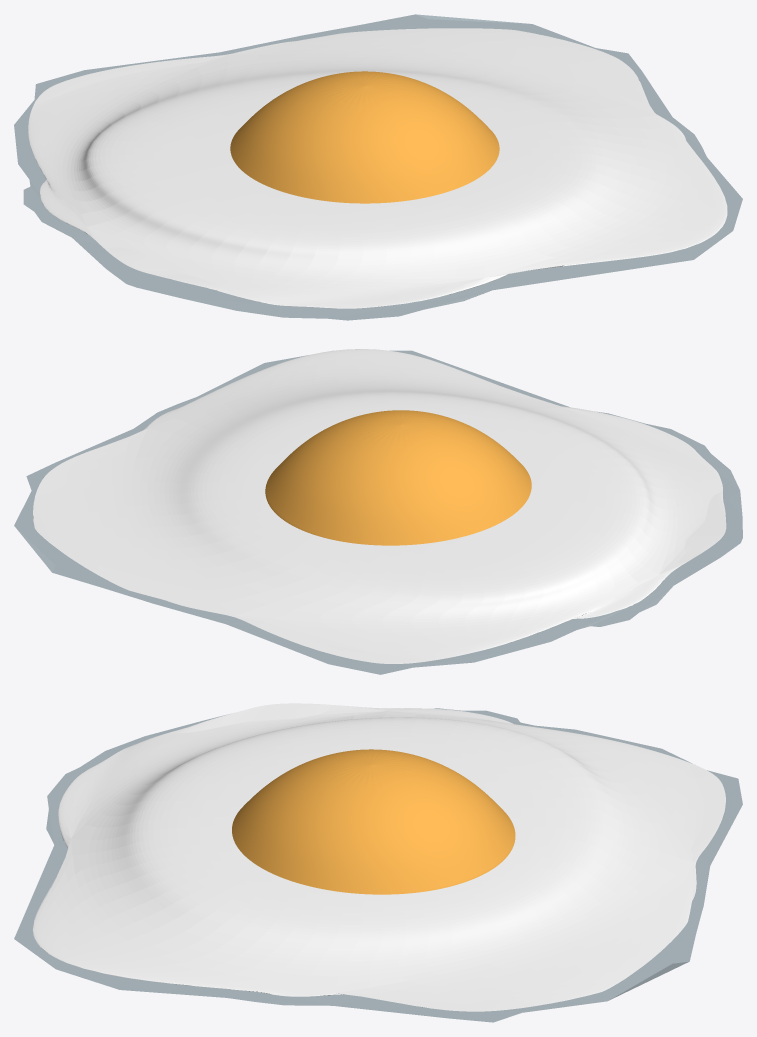
File: friedegg1.fbx
3 views of the same model, one above another, from view 1: azimuth 30°, elevation 25°; view 2: azimuth 150°, elevation 25°; view 3: azimuth 270°, elevation 25° (orthographic). The views are drawn at different scales.
Visible parts, largest first — view 1: Cube, Sphere, Cube.001; view 2: Cube, Sphere, Cube.001; view 3: Cube, Sphere, Cube.001.
Boxes of the visible parts, x1,y1,x2,y2 form: Cube: (28,28,727,308); Sphere: (230,71,499,203); Cube.001: (14,14,742,320); Cube: (33,349,726,663); Sphere: (265,410,531,545); Cube.001: (14,350,742,674); Cube: (32,703,725,1011); Sphere: (232,749,515,894); Cube.001: (14,708,742,1022).
Size of the model in its own units: 277 by 38.79 by 271.
